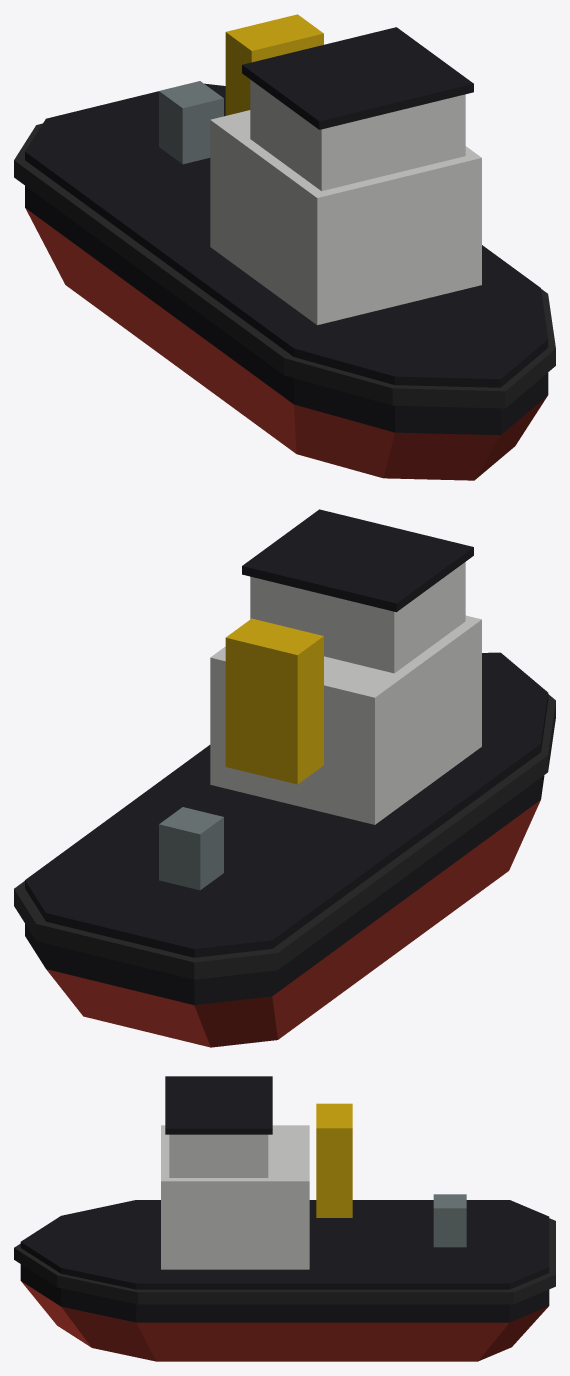
File: ship_tug.glb
The picture shows the model from 3 angles, top to bottom: view 1: azimuth 30°, elevation 25°; view 2: azimuth 150°, elevation 25°; view 3: azimuth 270°, elevation 25°; orthographic projection. The views are drawn at different scales.
Parts seen in each view (by area): view 1: ship_tug; view 2: ship_tug; view 3: ship_tug.
Part boxes in pixels (x1=…): ship_tug: x1=14, y1=14, x2=555, y2=480; ship_tug: x1=14, y1=509, x2=555, y2=1047; ship_tug: x1=14, y1=1076, x2=555, y2=1361.
Bounding box in the file's own units: 12.8 × 14.9 × 32.8.
